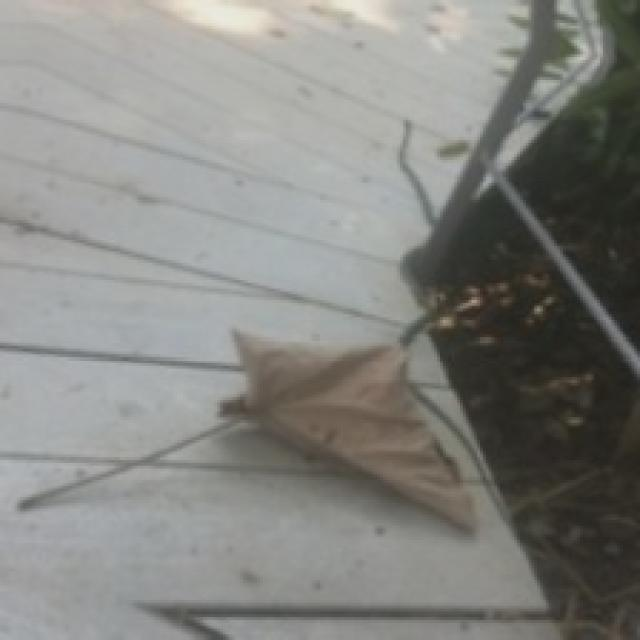paradise tree snake: (410, 381, 509, 519), (398, 119, 436, 226), (398, 308, 435, 349)
